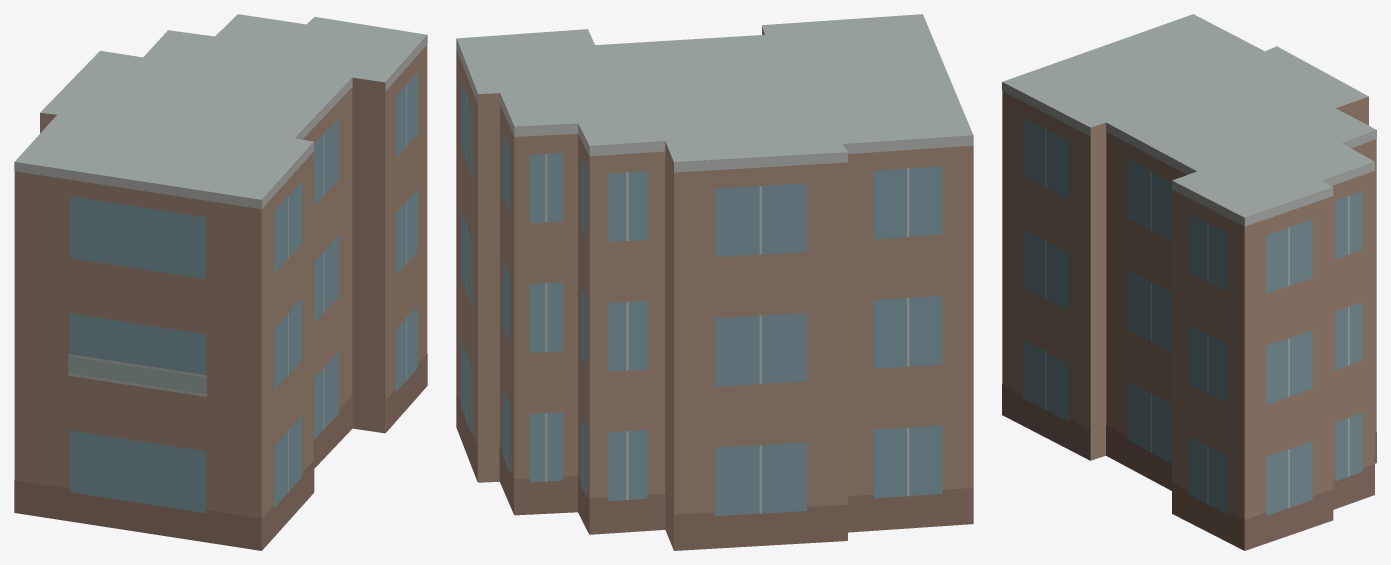
The model's file is survey-upis-32696432.glb.
The picture shows the model from 3 angles, left to right: view 1: azimuth 30°, elevation 25°; view 2: azimuth 150°, elevation 25°; view 3: azimuth 270°, elevation 25°; orthographic projection. The views are drawn at different scales.
Parts seen in each view (by area): view 1: survey-upis-32696432.tmp; view 2: survey-upis-32696432.tmp; view 3: survey-upis-32696432.tmp.
Part boxes in pixels (x1,y1,x2,y2): survey-upis-32696432.tmp: (14, 14, 427, 550); survey-upis-32696432.tmp: (456, 14, 973, 550); survey-upis-32696432.tmp: (1002, 14, 1376, 550).
Size of the model in its own units: 12.01 by 9.15 by 9.34.
